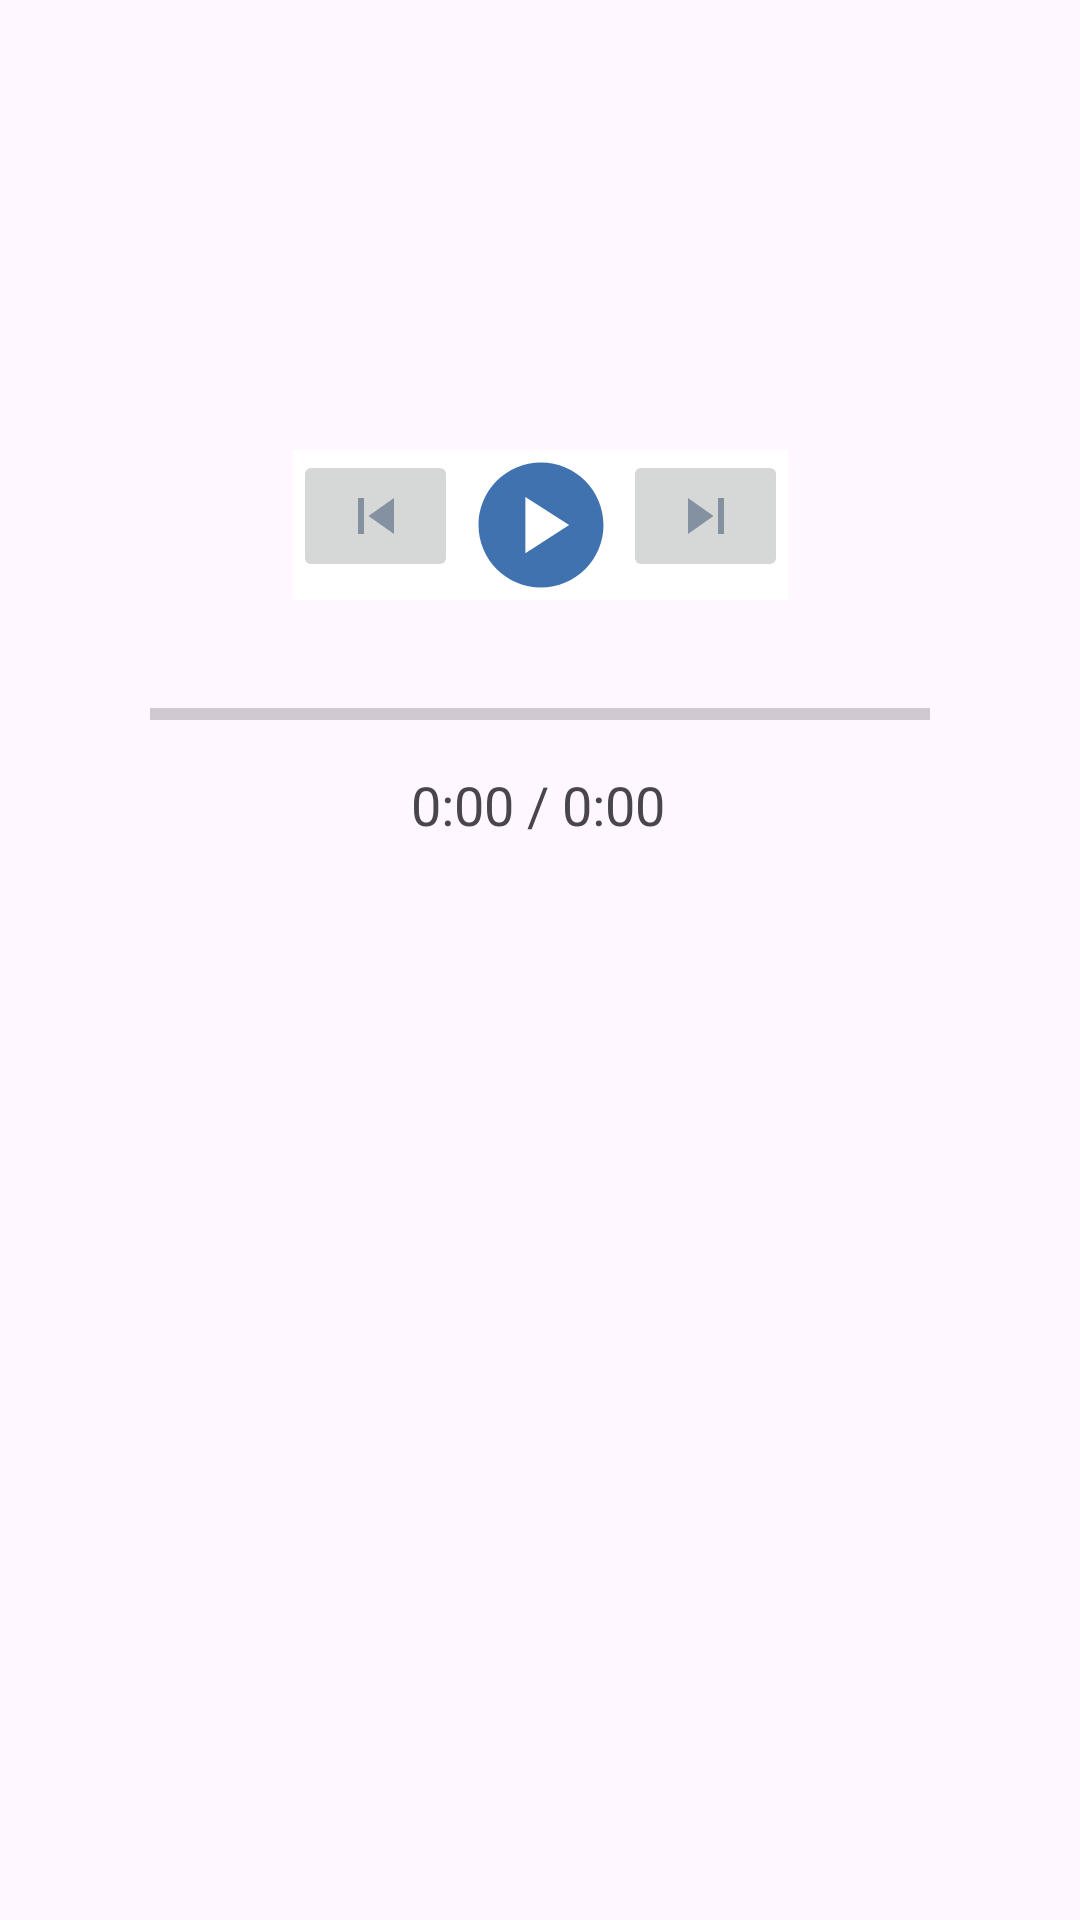

Locate icon controls on the screen. Image size 1080×1920, boxes as (x1=x1, y1=y1, x2=x2, y2=y2).
play circle: (x1=478, y1=462, x2=604, y2=588)
skip next: (x1=635, y1=468, x2=776, y2=564)
skip previous: (x1=305, y1=468, x2=446, y2=564)
